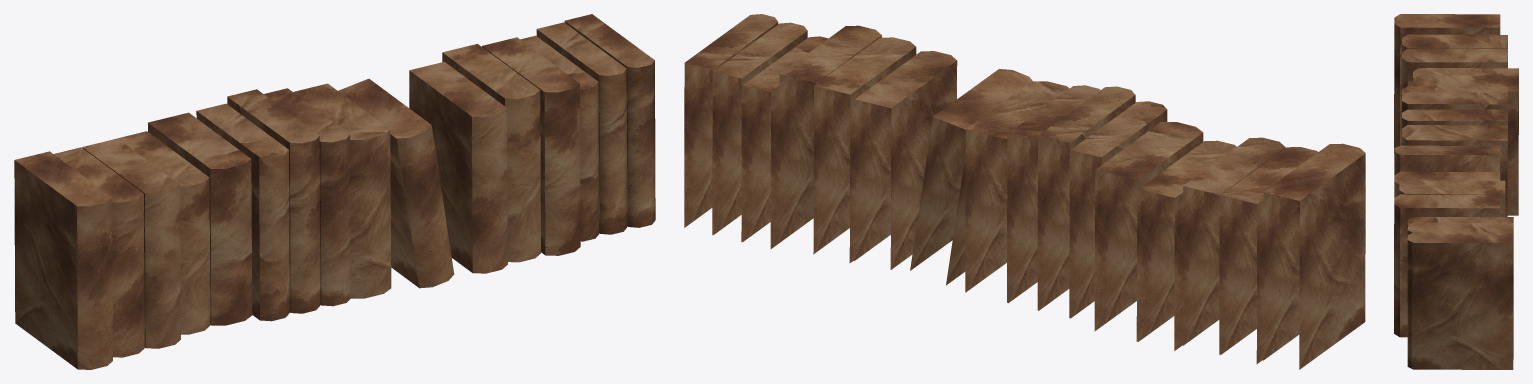
File: tr_books_shelf_1.glb
The picture shows the model from 3 angles, left to right: view 1: azimuth 30°, elevation 25°; view 2: azimuth 150°, elevation 25°; view 3: azimuth 270°, elevation 25°; orthographic projection. The views are drawn at different scales.
Parts seen in each view (by area): view 1: model; view 2: model; view 3: model.
Part boxes in pixels (x1,y1,x2,y2): model: (14, 14, 655, 369); model: (684, 14, 1365, 369); model: (1394, 14, 1518, 369).
Size of the model in its own units: 1.06 by 0.2983 by 0.2475.
1 material, 1 textured.
